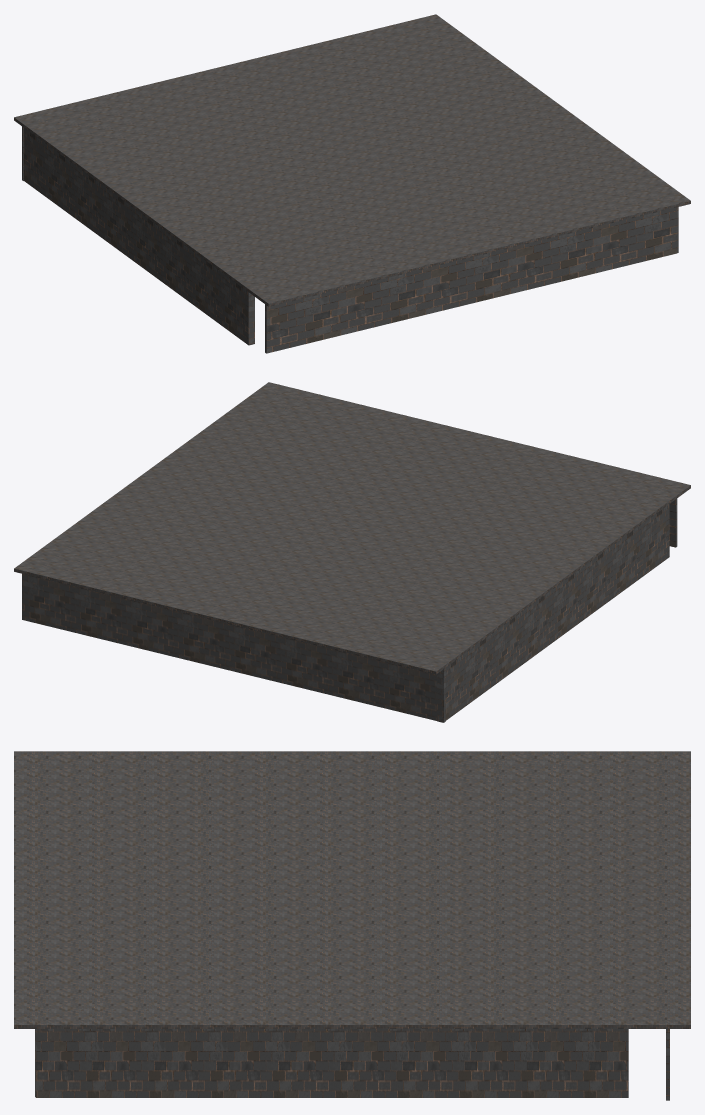
The model's file is NewOuterWalls.fbx.
3 views of the same model, one above another, from view 1: azimuth 30°, elevation 25°; view 2: azimuth 150°, elevation 25°; view 3: azimuth 270°, elevation 25° (orthographic). The views are drawn at different scales.
Visible parts, largest first — view 1: Roof, wall__3_, wall__2_; view 2: Roof, wall__4_, wall__2_; view 3: Roof, wall__1_.
Part boxes in pixels (x1,y1,x2,y2): Roof: [14, 14, 690, 306]; wall__3_: [265, 207, 677, 353]; wall__2_: [24, 128, 254, 345]; Roof: [14, 382, 690, 674]; wall__4_: [22, 573, 445, 722]; wall__2_: [437, 504, 669, 722]; Roof: [14, 751, 690, 1028]; wall__1_: [35, 1029, 628, 1097].
Size of the model in its own units: 31825 by 4106 by 33263.
1 material, 1 textured.
